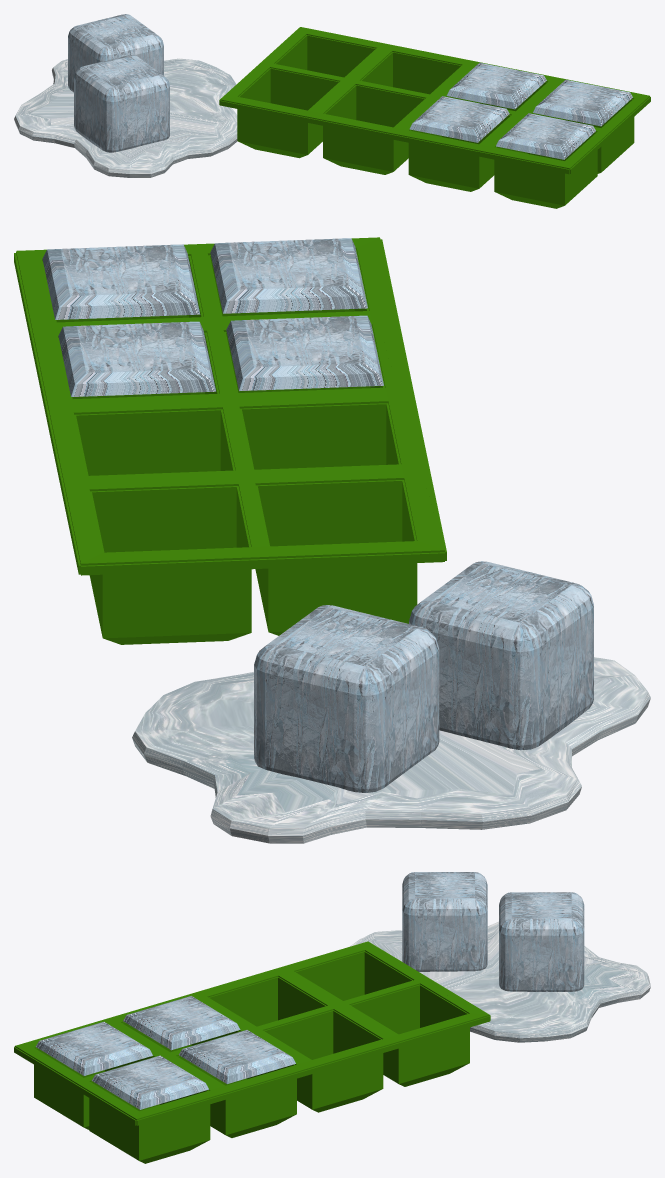
The model's file is ice remake.fbx.
3 renders of one model, top to bottom at view 1: azimuth 30°, elevation 25°; view 2: azimuth 150°, elevation 25°; view 3: azimuth 270°, elevation 25°, orthographic. The views are drawn at different scales.
Parts seen in each view (by area): view 1: Cloner_Object, Cylinder001, Cube001, Cube, Object001, Object004, Object002, Object003; view 2: Cloner_Object, Cylinder001, Cube, Cube001, Object003, Object002, Object001, Object004; view 3: Cloner_Object, Cylinder001, Cube, Cube001, Object003, Object004, Object002, Object001.
Boxes of the visible parts, x1,y1,x2,y2 form: Cloner_Object: (219, 27, 650, 208); Cylinder001: (14, 58, 237, 177); Cube001: (74, 55, 169, 152); Cube: (68, 14, 163, 92); Object001: (409, 96, 509, 142); Object004: (446, 62, 546, 109); Object002: (496, 113, 595, 159); Object003: (533, 79, 632, 126); Cloner_Object: (14, 237, 446, 644); Cylinder001: (132, 657, 650, 843); Cube: (254, 605, 439, 792); Cube001: (409, 561, 593, 750); Object003: (42, 244, 200, 319); Object002: (210, 238, 367, 313); Object001: (226, 315, 383, 390); Object004: (58, 321, 215, 396); Cloner_Object: (14, 941, 490, 1163); Cylinder001: (350, 921, 650, 1042); Cube: (499, 892, 584, 991); Cube001: (402, 872, 487, 971); Object003: (91, 1055, 208, 1109); Object004: (179, 1030, 295, 1083); Object002: (35, 1021, 152, 1075); Object001: (123, 996, 240, 1050).
Bounding box in the file's own units: 72.38 × 11.28 × 77.71.
8 materials, 7 textured.
